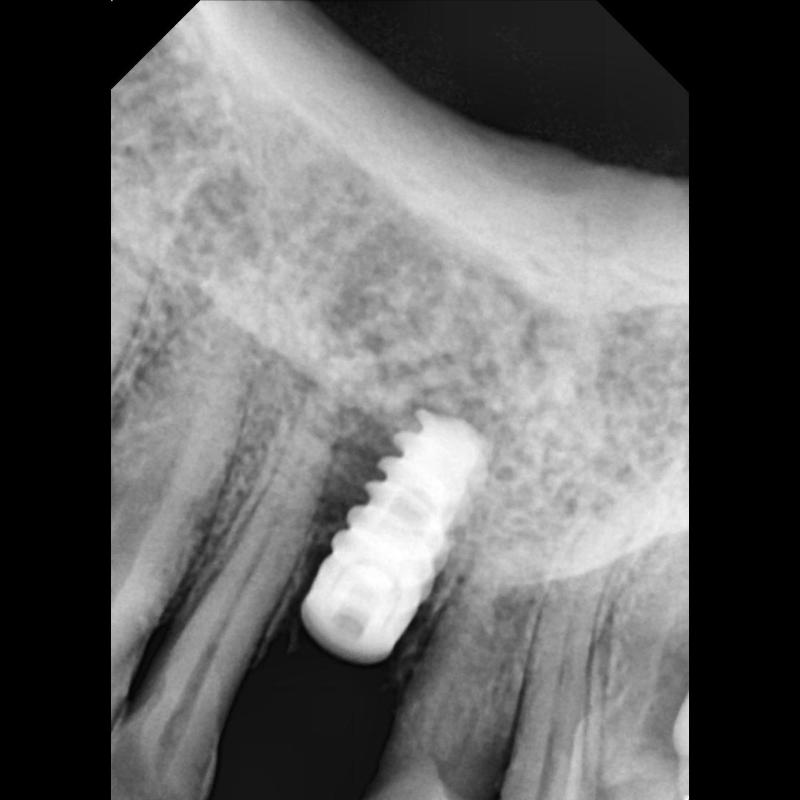NORIS: (298, 402, 504, 668)
